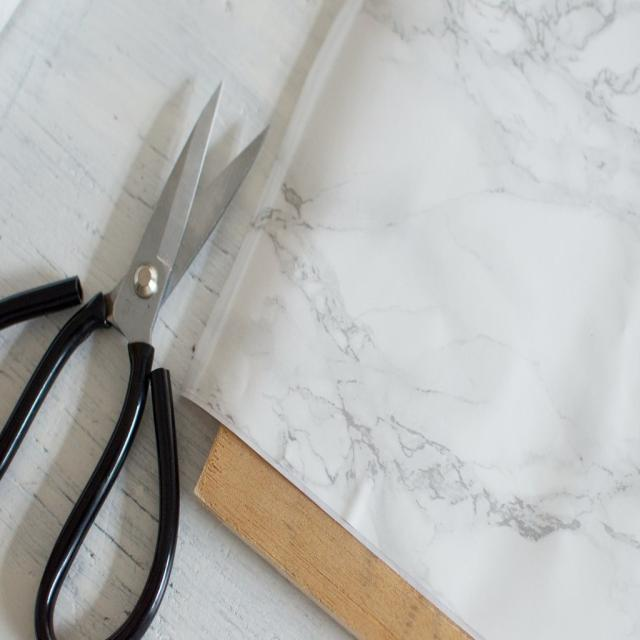scissors: (0, 78, 270, 638)
